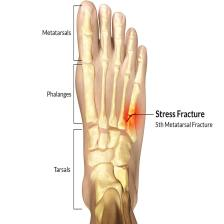stress-fracture: (74, 0, 146, 224)
